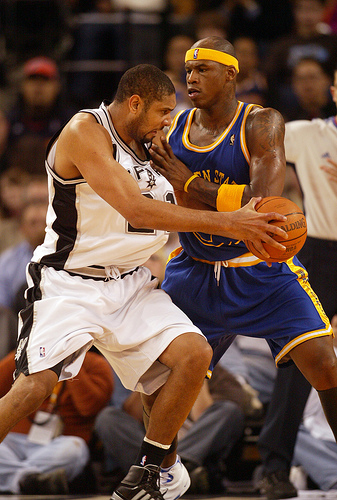basketball: (249, 197, 306, 261)
